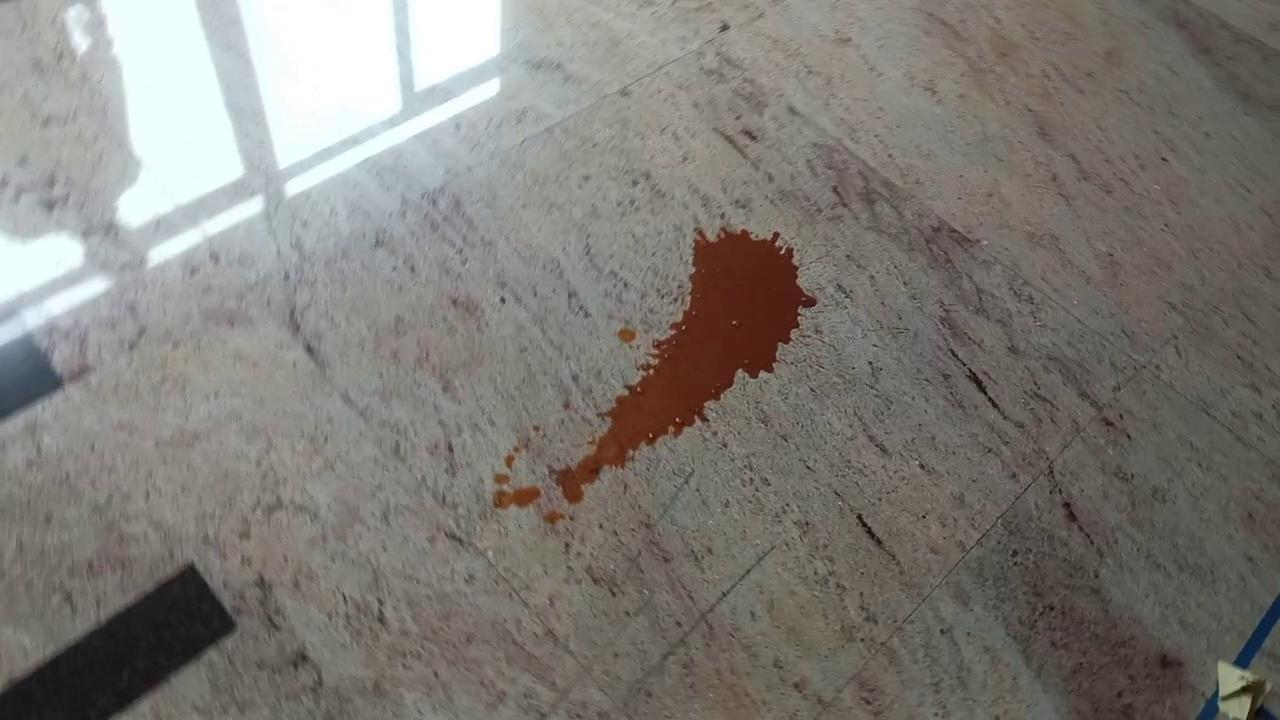dirty_floor: (487, 229, 818, 528)
